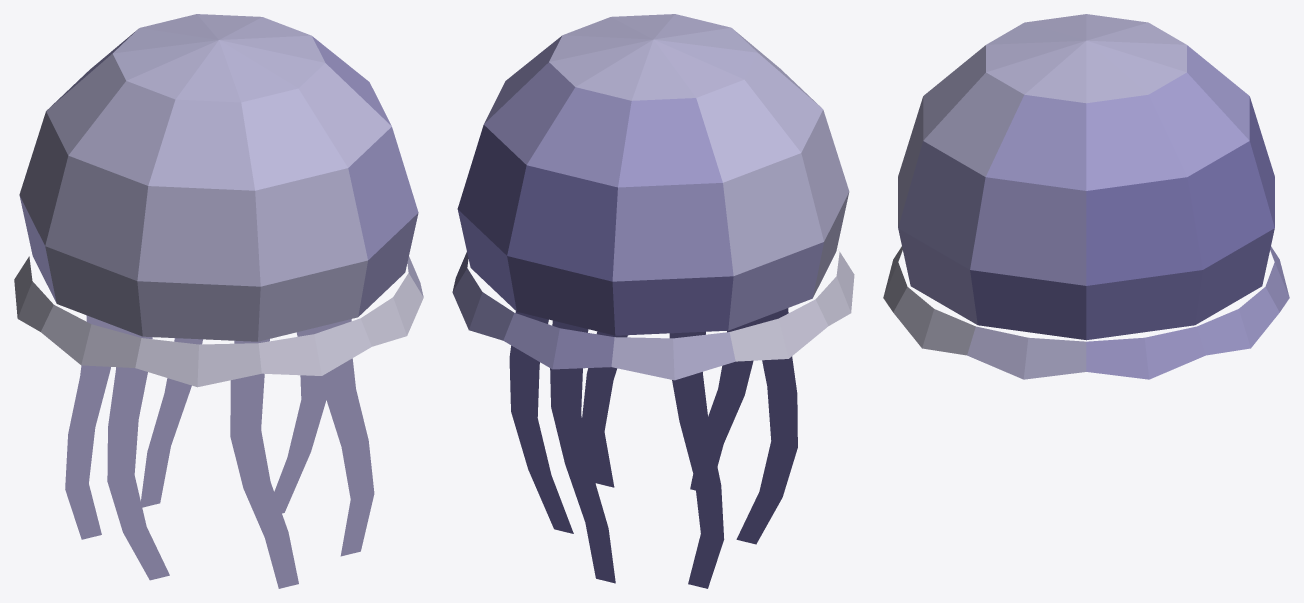
File: jellyfish-lantern.glb
3 views of the same model, side by side, from view 1: azimuth 30°, elevation 25°; view 2: azimuth 150°, elevation 25°; view 3: azimuth 270°, elevation 25° (orthographic).
Parts seen in each view (by area): view 1: bell, tentacles; view 2: bell, tentacles; view 3: bell.
Part boxes in pixels (x1,y1,x2,y2): bell: (14, 14, 423, 387); tentacles: (65, 315, 374, 588); bell: (452, 14, 854, 380); tentacles: (509, 308, 797, 588); bell: (883, 14, 1289, 379).
Bounding box in the file's own units: 1.23 × 1.67 × 1.23.
